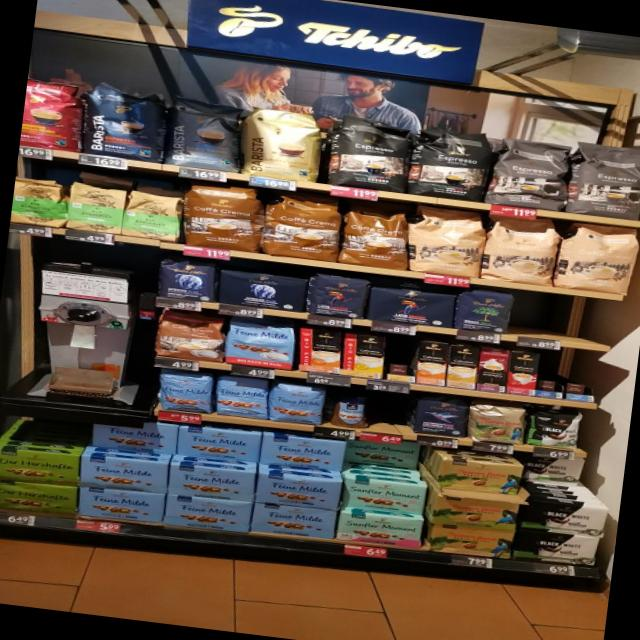AB Bohne: (154, 254, 219, 304)
AB Gemahlen: (213, 268, 309, 314)
Athiopien Bohne: (11, 176, 68, 228)
Athiopien Gemahlen: (63, 180, 128, 236), (122, 186, 182, 244)
BM Bohne: (452, 288, 513, 336)
BW Bohne: (524, 406, 586, 452)
BW Gemahlen: (518, 496, 610, 538), (516, 527, 600, 567)
Barista CB: (239, 104, 328, 184)
Barista CC: (162, 92, 248, 174)
Barista Espresso: (78, 78, 171, 164)
C Fino Bohne: (409, 394, 471, 440)
CC Mild: (556, 219, 640, 296), (406, 202, 488, 280), (480, 214, 560, 286)
CC Vollmundig: (152, 308, 228, 363)
CC Vollmundig 36 Pads: (258, 188, 347, 262), (178, 178, 264, 253), (339, 198, 413, 270)
Colombia BB Bohne: (466, 402, 529, 447)
Colombia BB Gemahlen: (431, 491, 522, 532), (425, 520, 516, 560), (436, 456, 522, 496)
Empty Shelf: (512, 294, 616, 346), (382, 335, 420, 376), (564, 356, 597, 396), (536, 353, 566, 392)
Espresso Aromatisch: (488, 135, 572, 211), (569, 139, 640, 220)
Espresso Kraftig: (406, 123, 494, 203), (328, 112, 413, 192)
FM 36 Pads: (224, 317, 298, 371)
FM Bohne: (266, 379, 328, 426), (152, 369, 215, 415), (212, 373, 272, 421)
FM Gemahlen: (78, 452, 170, 495), (162, 492, 254, 534), (165, 462, 258, 503), (73, 484, 165, 525), (251, 501, 339, 541), (255, 472, 342, 512), (260, 433, 349, 472), (176, 426, 263, 463)
FM Instant: (326, 389, 376, 431)
Herzhatfe Mundig: (0, 443, 82, 490), (0, 476, 79, 520)
LG Bohne: (304, 270, 369, 320)
LG Gemahlen: (365, 285, 458, 330)
SM Gemahlen: (336, 509, 425, 550), (341, 474, 426, 516)
Simo CCMild: (341, 332, 386, 379)
Simo CCVollmundig: (300, 327, 340, 374)
Simo CCVollmundig bigpack: (416, 340, 450, 386)
Simo Decaff: (444, 344, 478, 389)
Simo Es Brazil: (506, 350, 538, 396)
